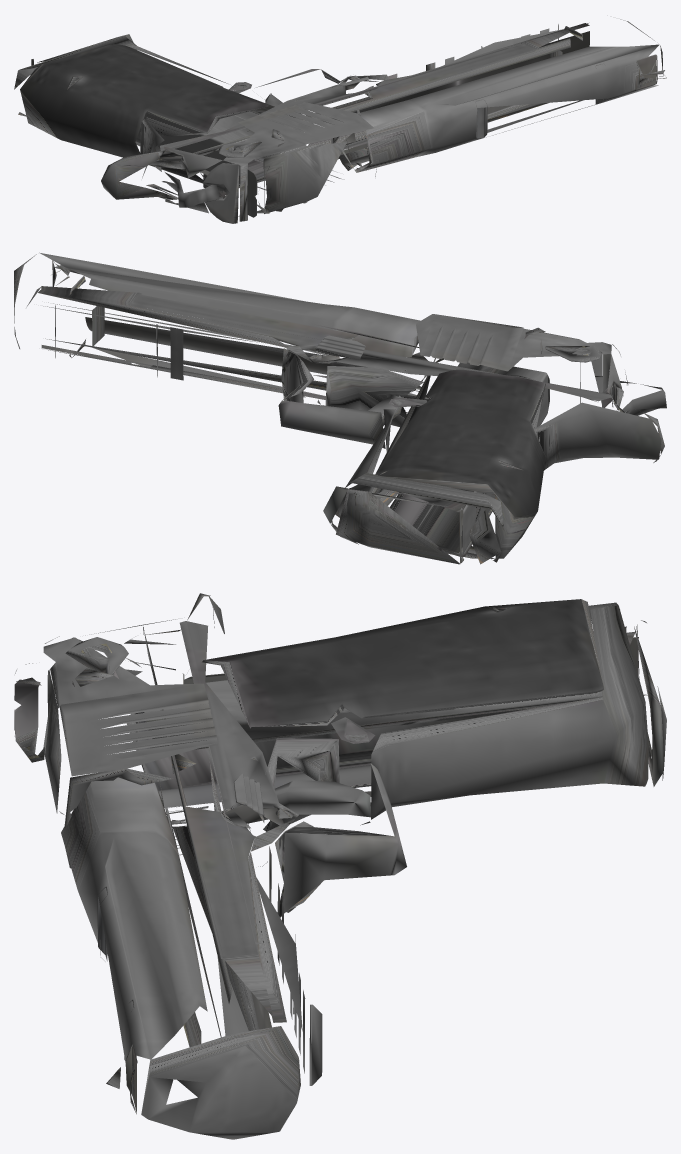
The model's file is p_deagle.glb.
3 renders of one model, top to bottom at view 1: azimuth 30°, elevation 25°; view 2: azimuth 150°, elevation 25°; view 3: azimuth 270°, elevation 25°, orthographic. The views are drawn at different scales.
Visible parts, largest first — view 1: p_deagle; view 2: p_deagle; view 3: p_deagle.
Boxes of the visible parts, x1,y1,x2,y2 form: p_deagle: [14, 19, 666, 223]; p_deagle: [14, 252, 666, 564]; p_deagle: [14, 593, 666, 1139].
Bounding box in the file's own units: 0.4469 × 0.0665 × 0.2586.
Materials: 1 (1 with a texture image).
